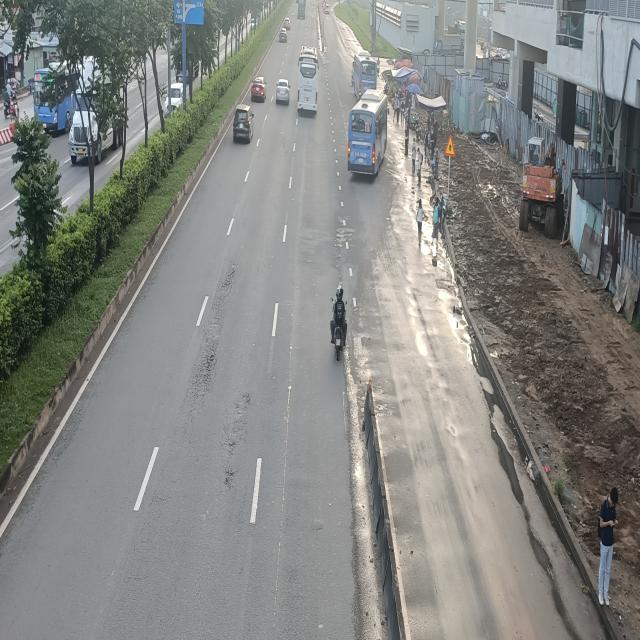car: (234, 103, 255, 143), (250, 78, 266, 105), (276, 80, 290, 106)
coach: (346, 102, 387, 180), (297, 46, 319, 116), (351, 52, 378, 98)
